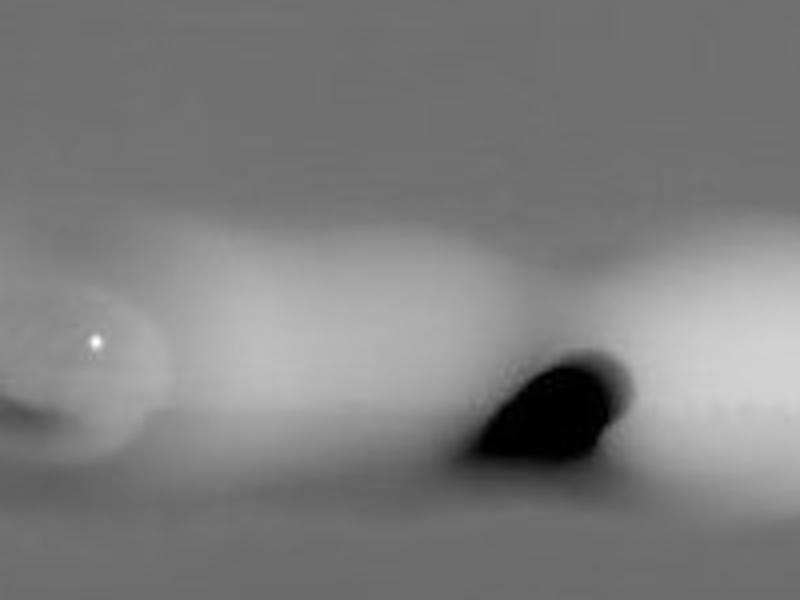defect: (473, 361, 615, 465)
